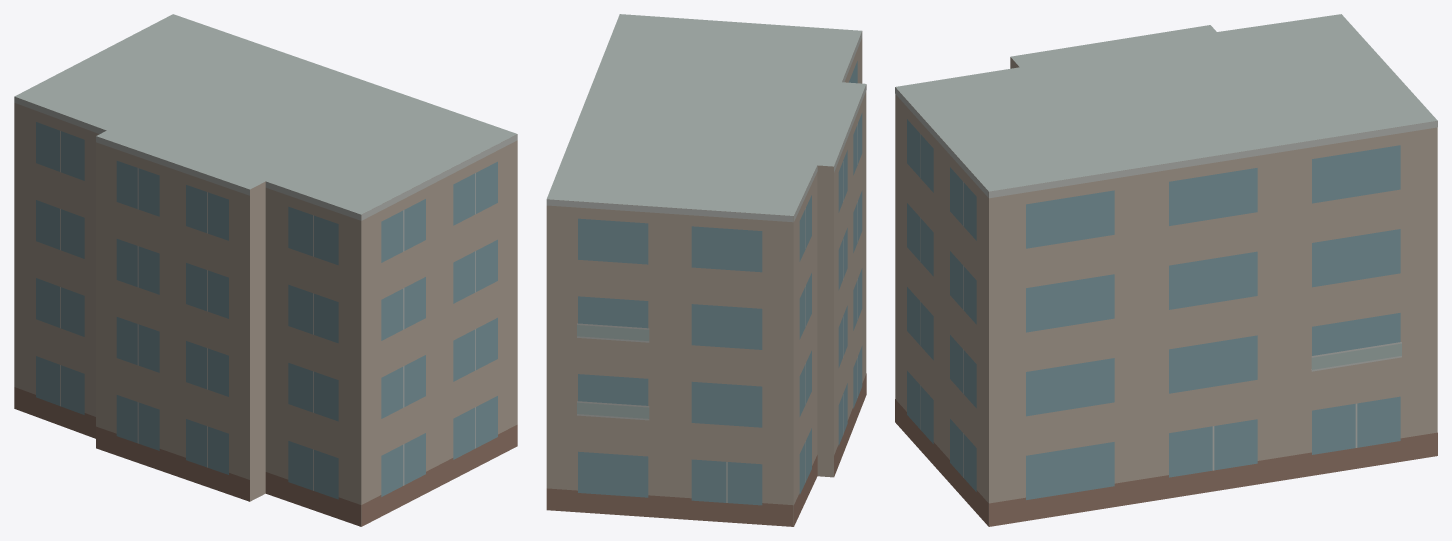
File: survey-upis-32998189.glb
3 views of the same model, side by side, from view 1: azimuth 30°, elevation 25°; view 2: azimuth 150°, elevation 25°; view 3: azimuth 270°, elevation 25° (orthographic). The views are drawn at different scales.
Visible parts, largest first — view 1: survey-upis-32998189.tmp; view 2: survey-upis-32998189.tmp; view 3: survey-upis-32998189.tmp.
Part boxes in pixels (bbox=[...]): survey-upis-32998189.tmp: bbox=[14, 14, 517, 526]; survey-upis-32998189.tmp: bbox=[546, 14, 866, 526]; survey-upis-32998189.tmp: bbox=[895, 14, 1437, 526].
Size of the model in its own units: 13.87 by 12.2 by 17.91.
